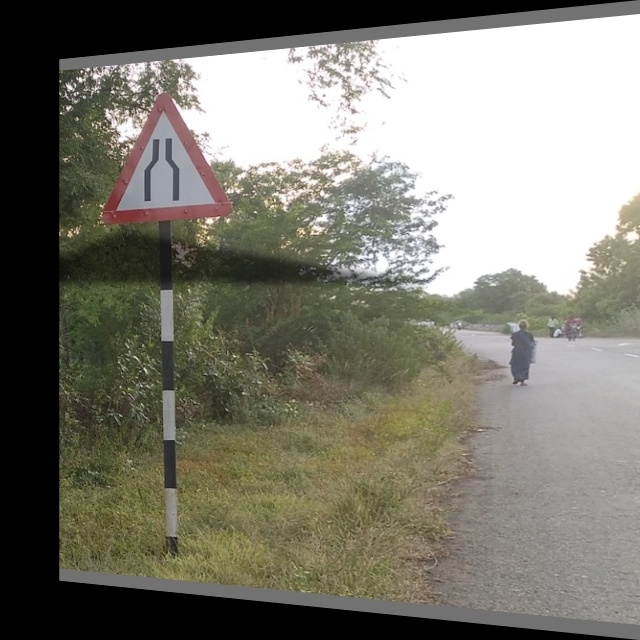Narrow_Road_Ahead: (102, 82, 236, 222)
